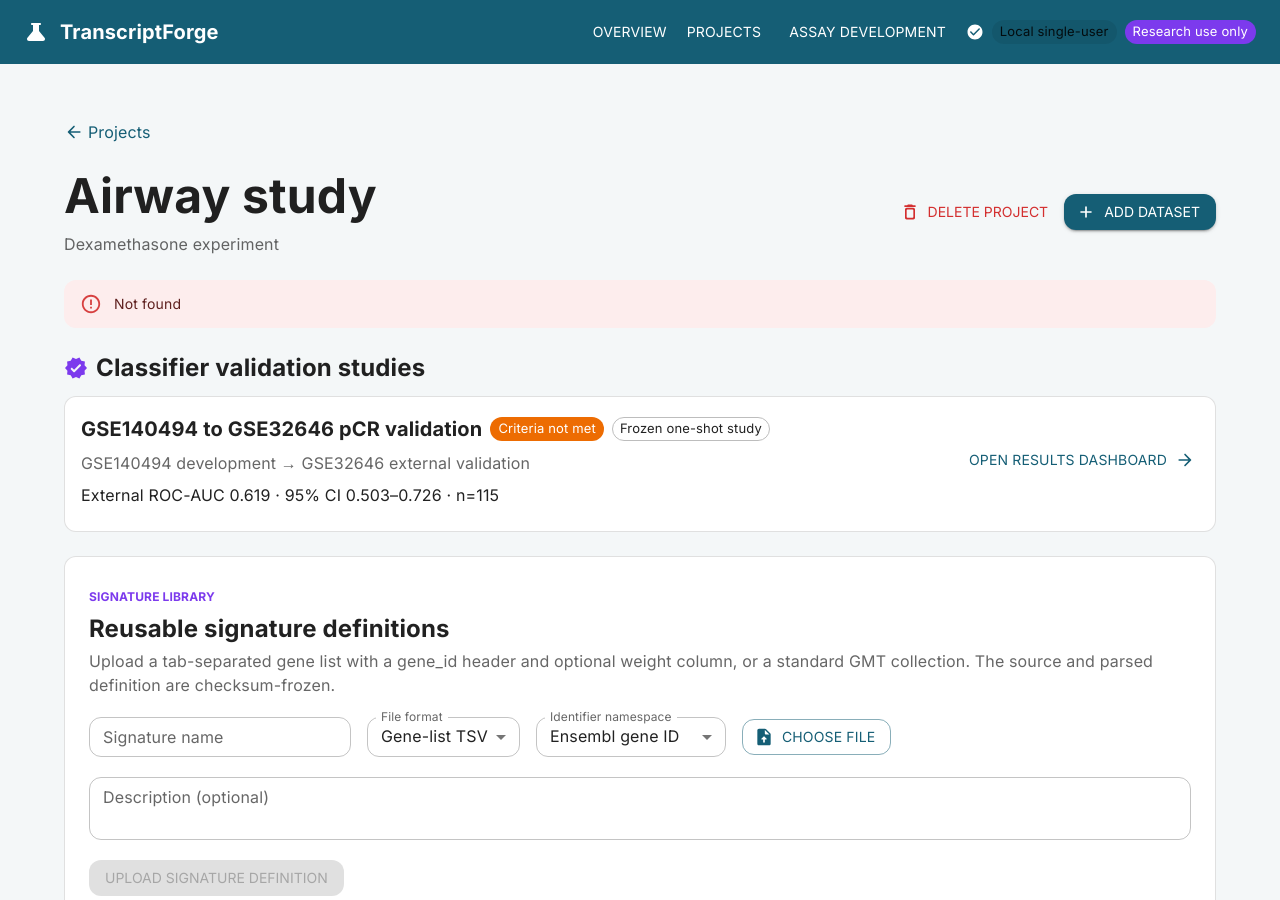
Test case: App › opens a frozen external classifier validation dashboard from its project
Expected: the heading "GSE140494 to GSE32646 pCR validation" is shown, 81,413 -> 482,445
Expected: the text "External ROC-AUC 0.619 · 95% CI 0.503–0.726 · n=115" is shown, 81,485 -> 499,505
Click the link "Open results dashboard": (1082,460) 969,450 -> 1195,470
(page scrolled)
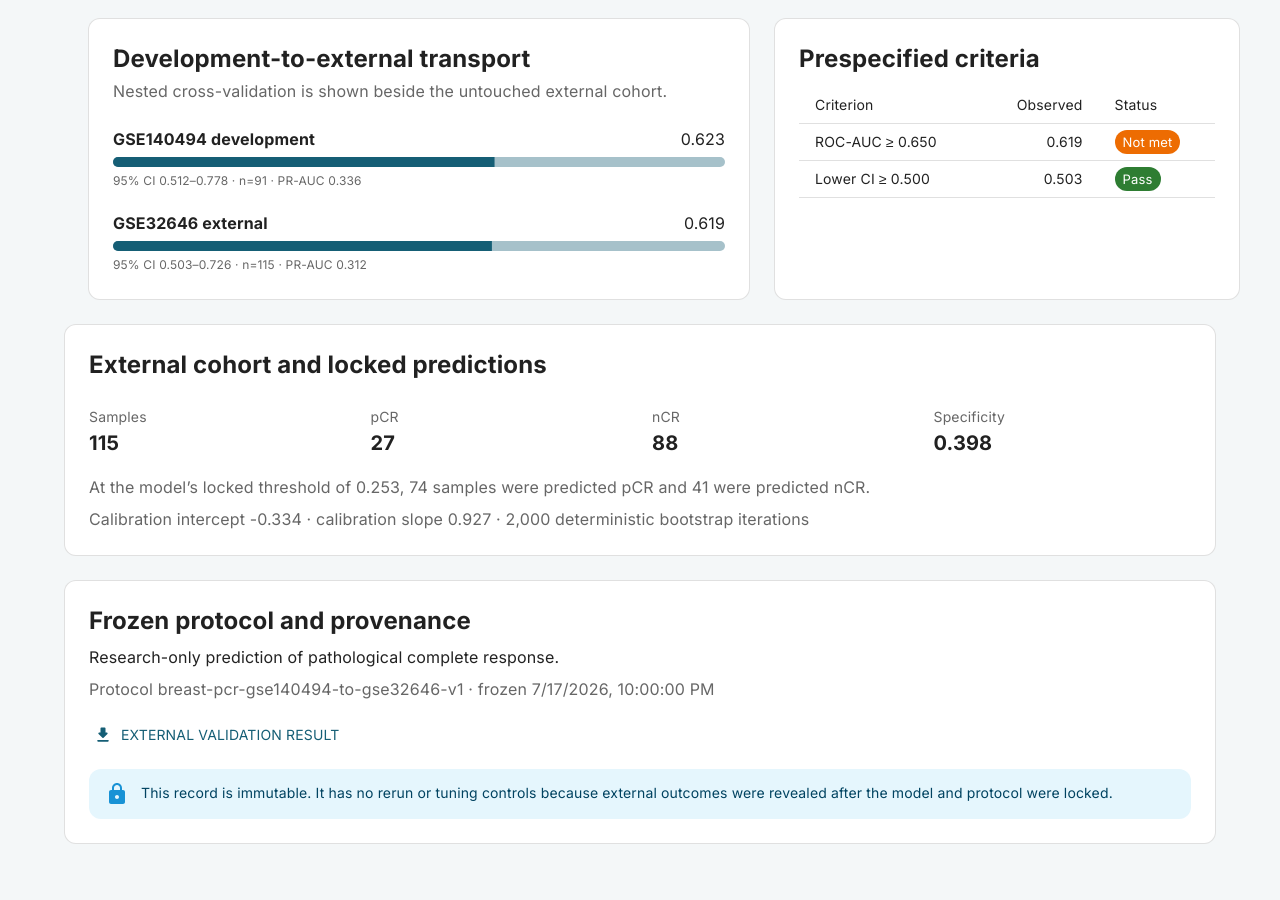
Expected: the table named "Prespecified success criteria" is shown, 799,87 -> 1215,198
Expected: the text "74 samples were predicted pCR" is shown, 89,477 -> 870,497
